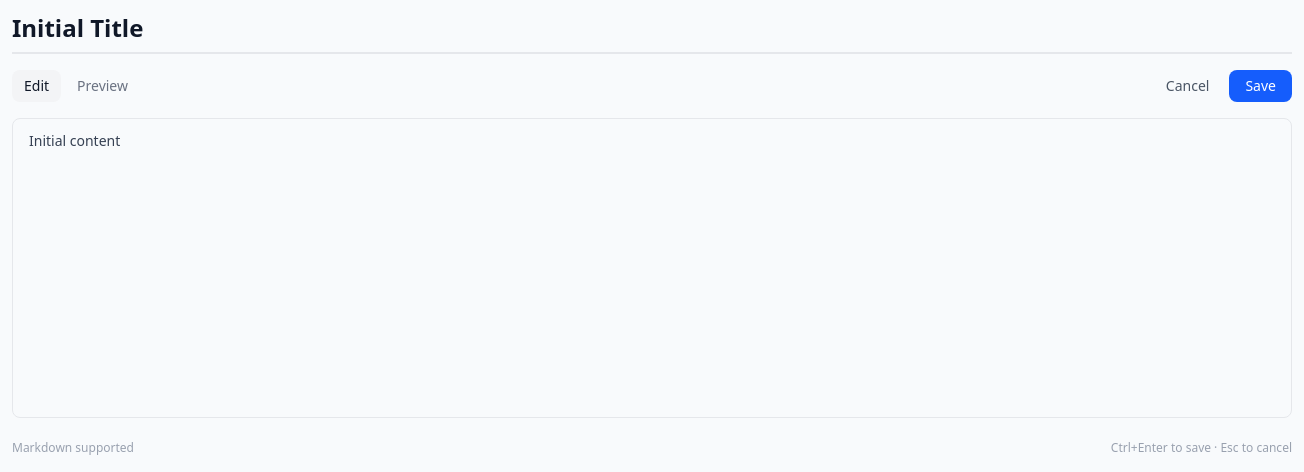
Scenario: WikiEditor › shows textarea when Edit is clicked after Preview
Click the button "Preview".
click(103, 86)  # box [65,70,140,102]
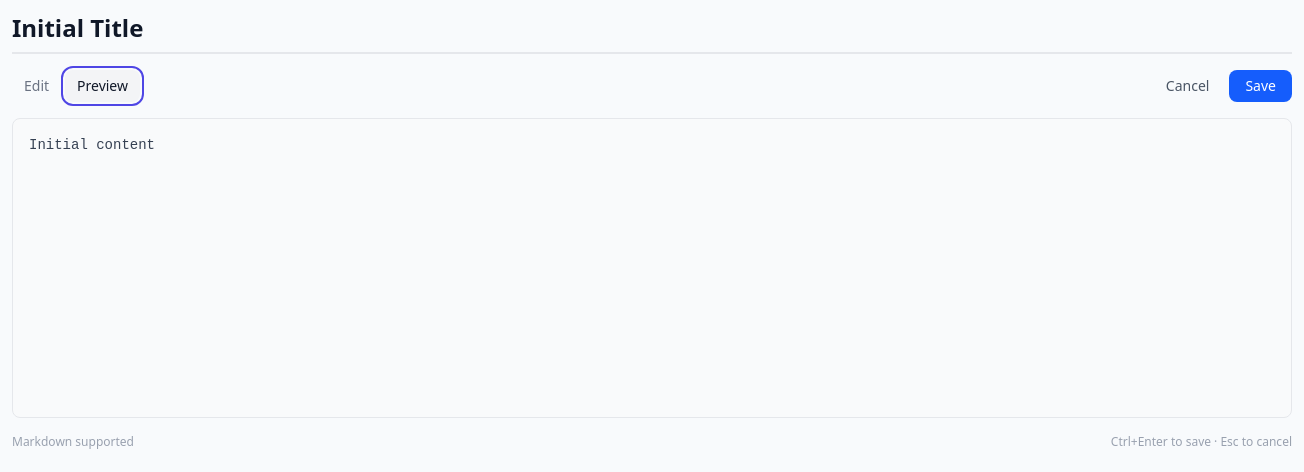
Click the button "Edit".
click(37, 86)  # box [12,70,61,102]
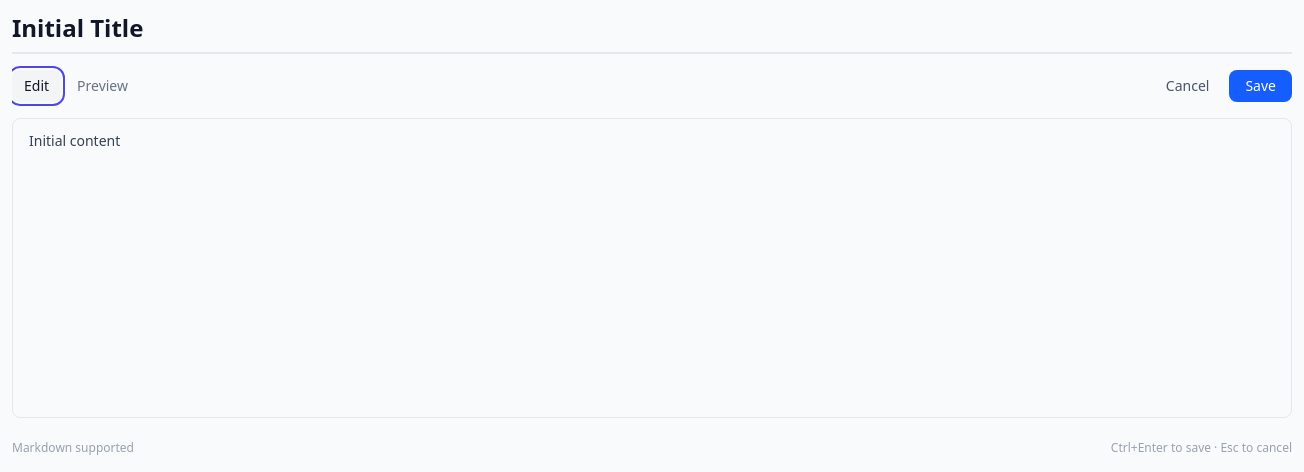
Expected: the text box is shown
